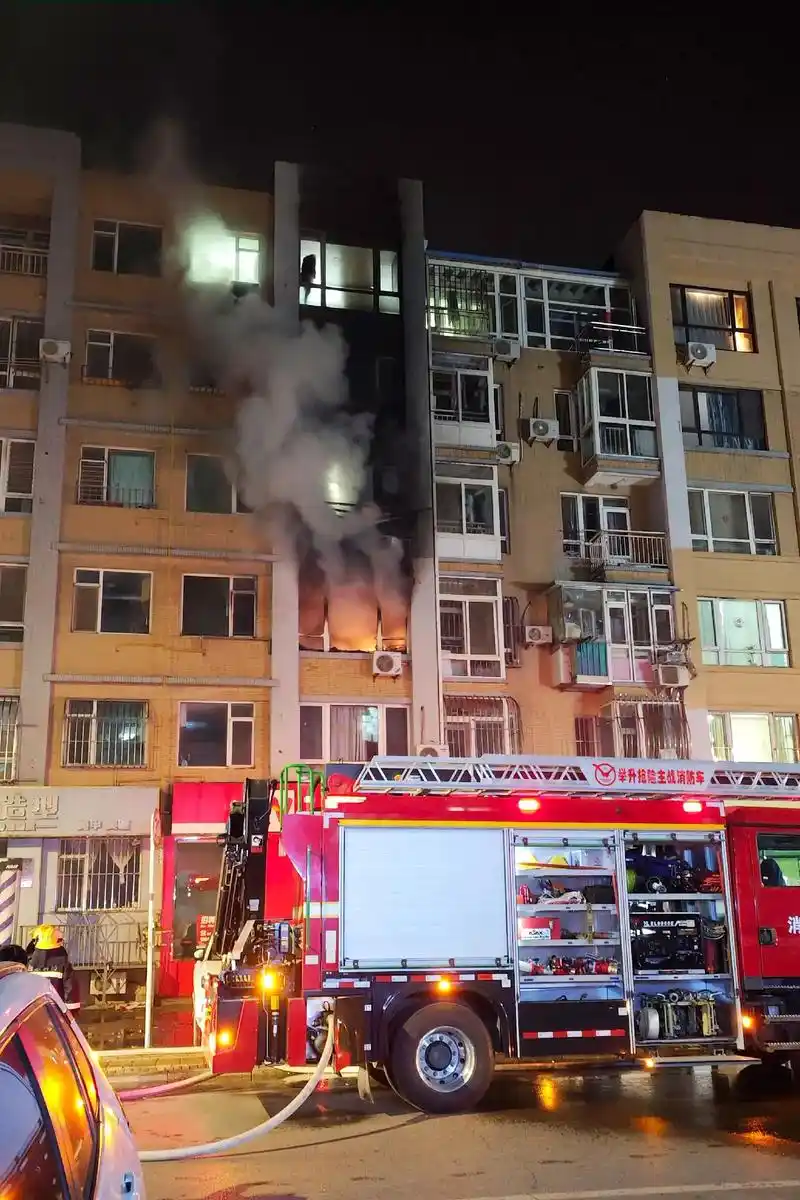fire: (106, 113, 431, 661)
